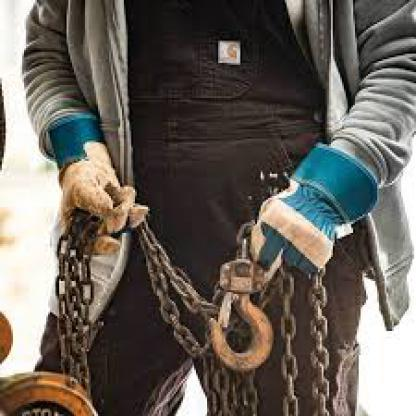with_gloves: (248, 140, 379, 276), (48, 115, 154, 258)
